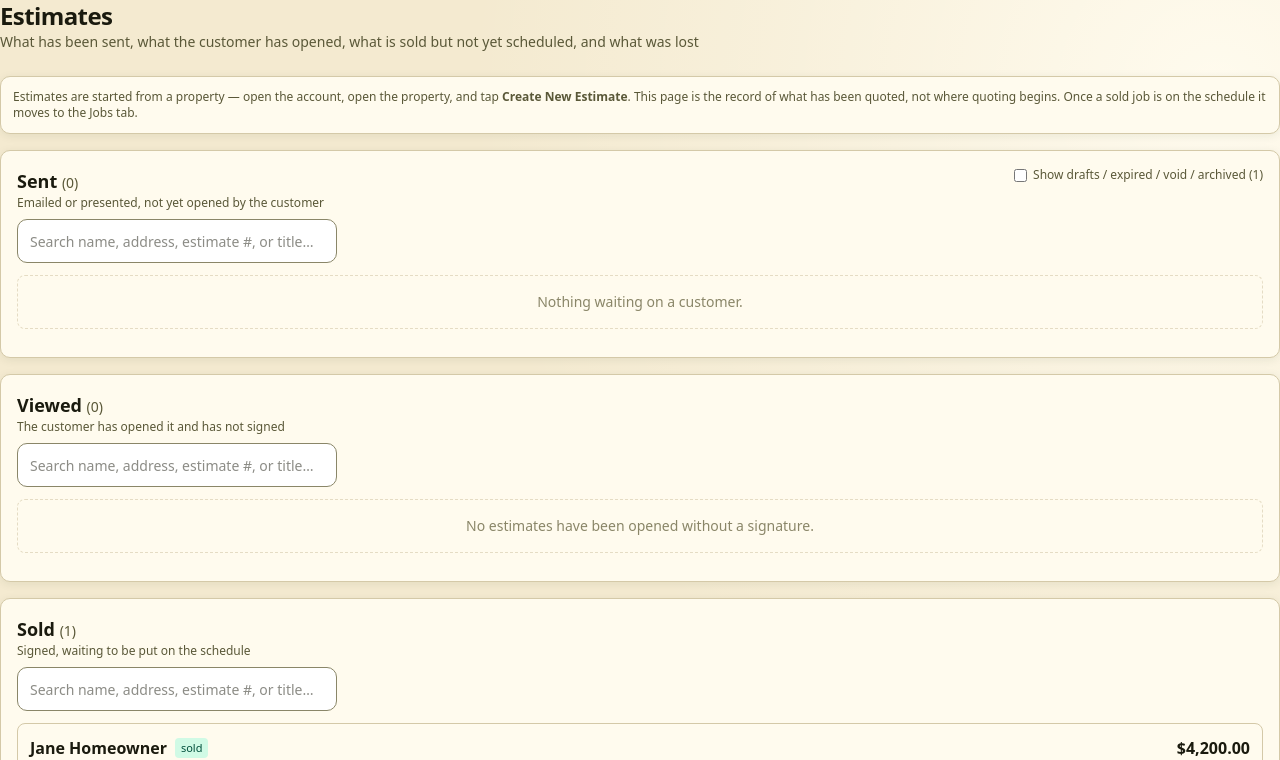
Test: EstimatesPage › files an archived estimate behind the Sent card's toggle with its reason, off the Sent count (2026-10-01)
Expected: the heading "Sold (1)" is shown, top-left (17, 617), bottom-right (76, 641)
Expected: the heading "Sent (0)" is shown, top-left (17, 169), bottom-right (78, 193)
What coordinates should you click on to do the following:
click the checkbox labelled "Show drafts / expired / void / archived (1)"
I would click on:
 (1020, 175)
Its box is top-left (1014, 168), bottom-right (1027, 182).
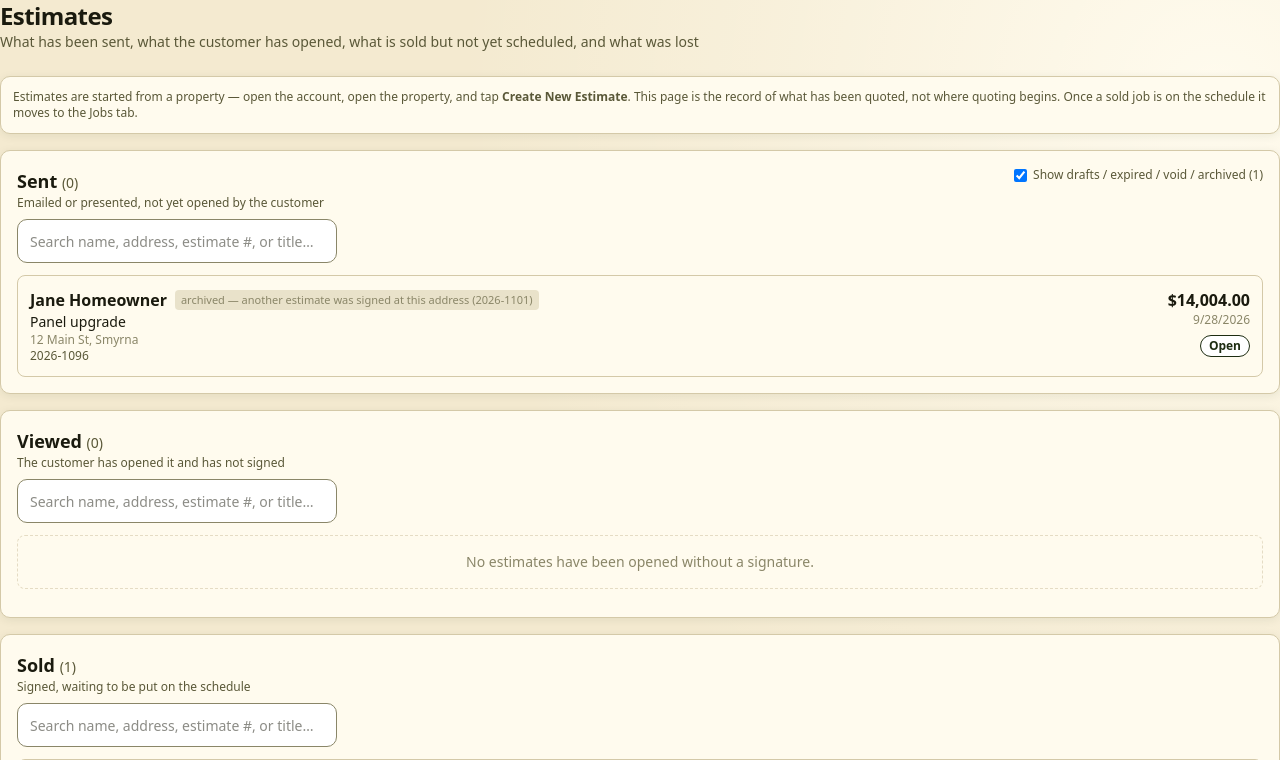
Expected: the text "archived — another estimate was signed at this address (2026-1101)" is shown, top-left (175, 290), bottom-right (539, 310)
Expected: the text "2026-1096" is shown, top-left (30, 347), bottom-right (89, 364)
